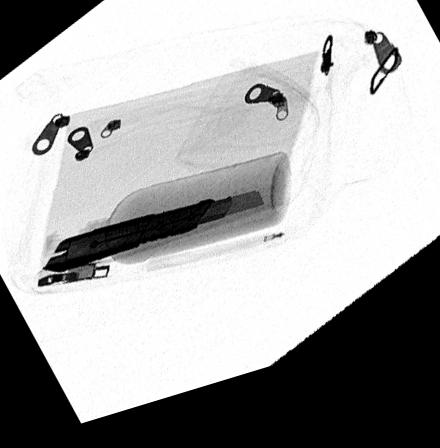Knife: (42, 204, 266, 277)
